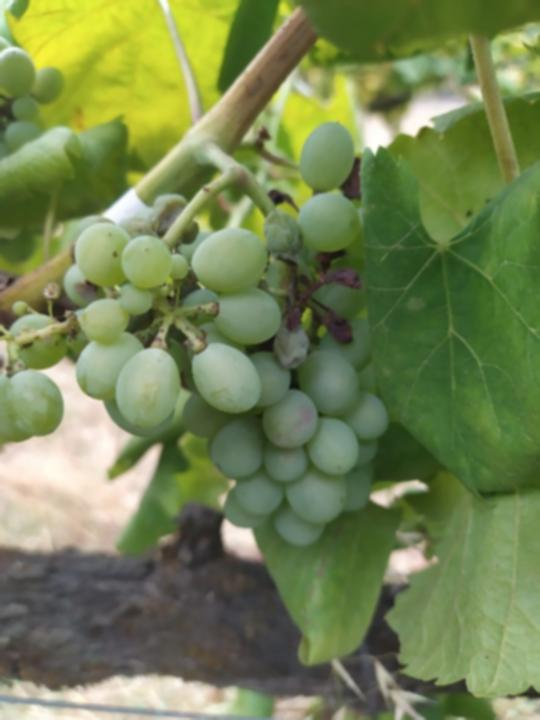grape: (0, 119, 391, 556)
